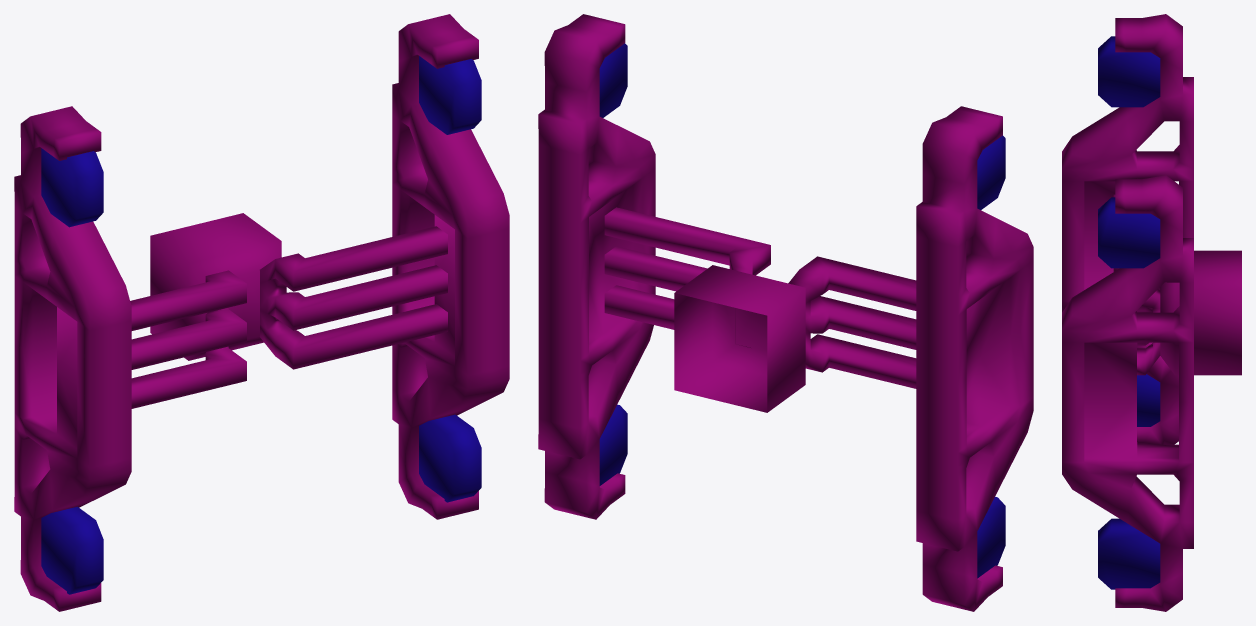
Rendered from TrainWheelsSupport.fbx.
The picture shows the model from 3 angles, left to right: view 1: azimuth 30°, elevation 25°; view 2: azimuth 150°, elevation 25°; view 3: azimuth 270°, elevation 25°; orthographic projection. The views are drawn at different scales.
Parts seen in each view (by area): view 1: LP_TrainWheelsSupport; view 2: LP_TrainWheelsSupport; view 3: LP_TrainWheelsSupport.
Part boxes in pixels (x1,y1,x2,y2): LP_TrainWheelsSupport: (14,14,509,611); LP_TrainWheelsSupport: (538,14,1033,611); LP_TrainWheelsSupport: (1062,14,1241,611).
Size of the model in its own units: 2.13 by 2.33 by 0.9051.
